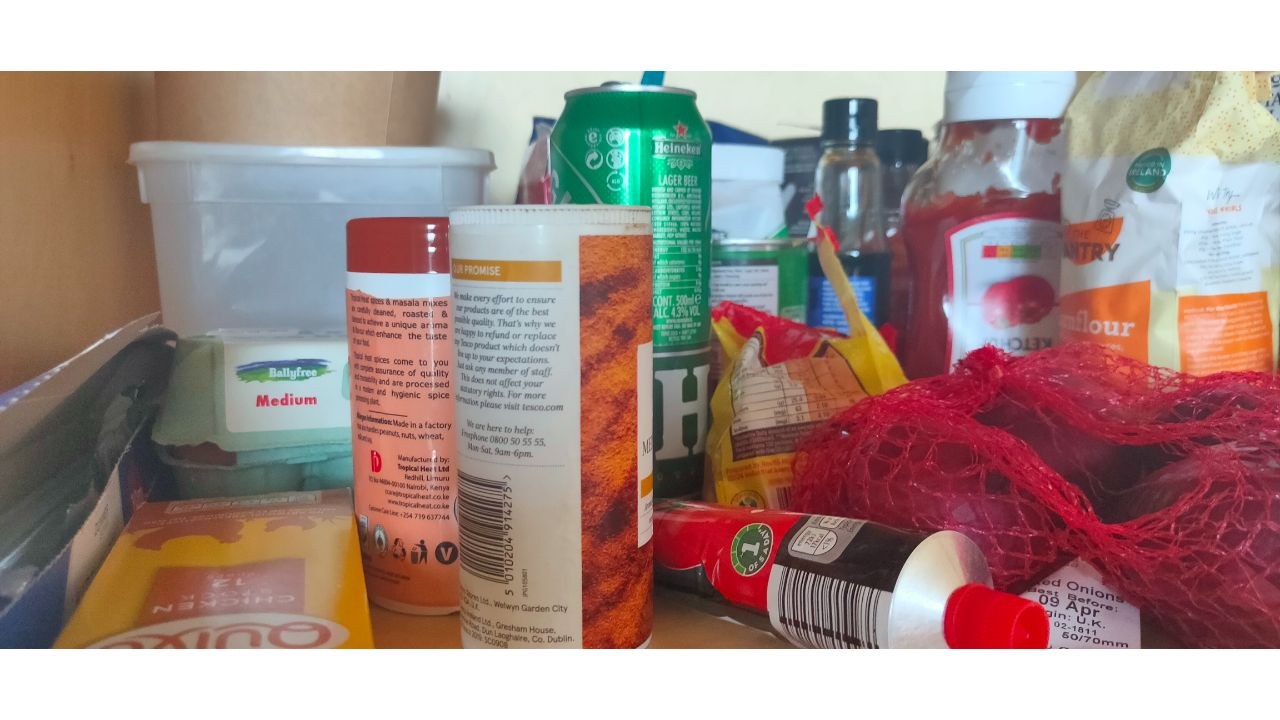Can: (547, 86, 718, 523)
